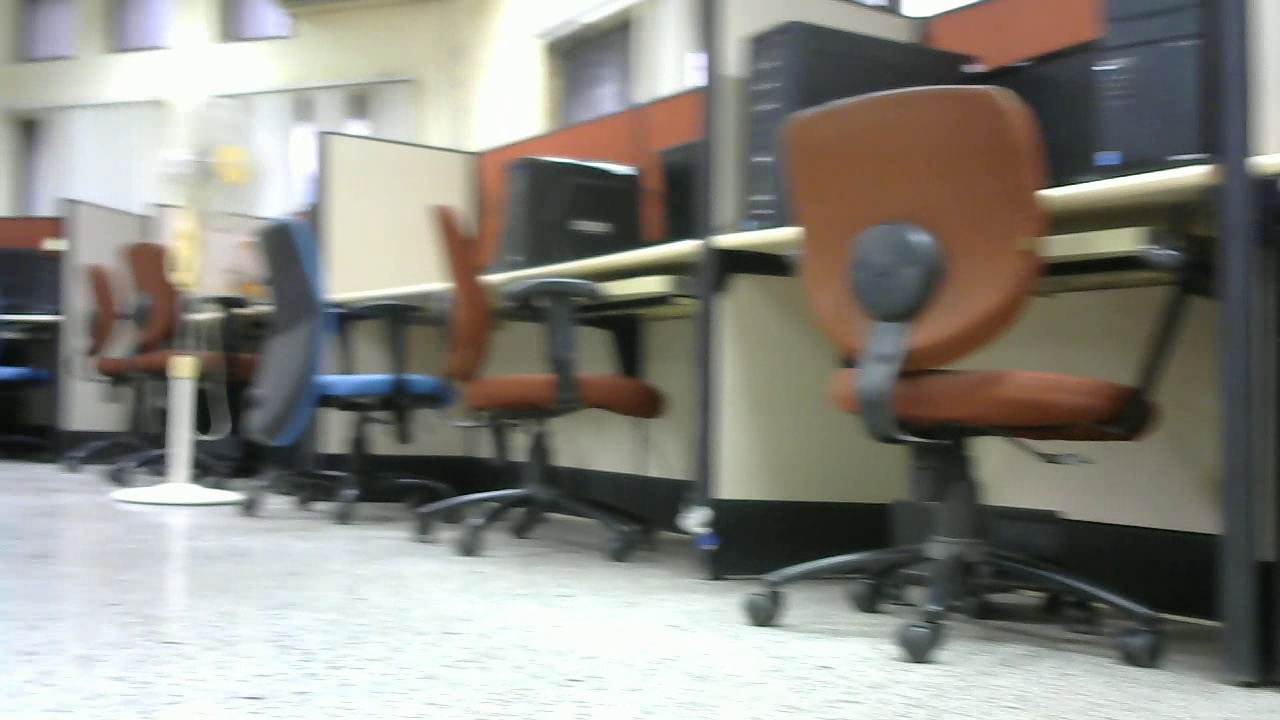chair: (744, 82, 1183, 669), (410, 206, 670, 559), (234, 212, 466, 517), (65, 241, 264, 473)
